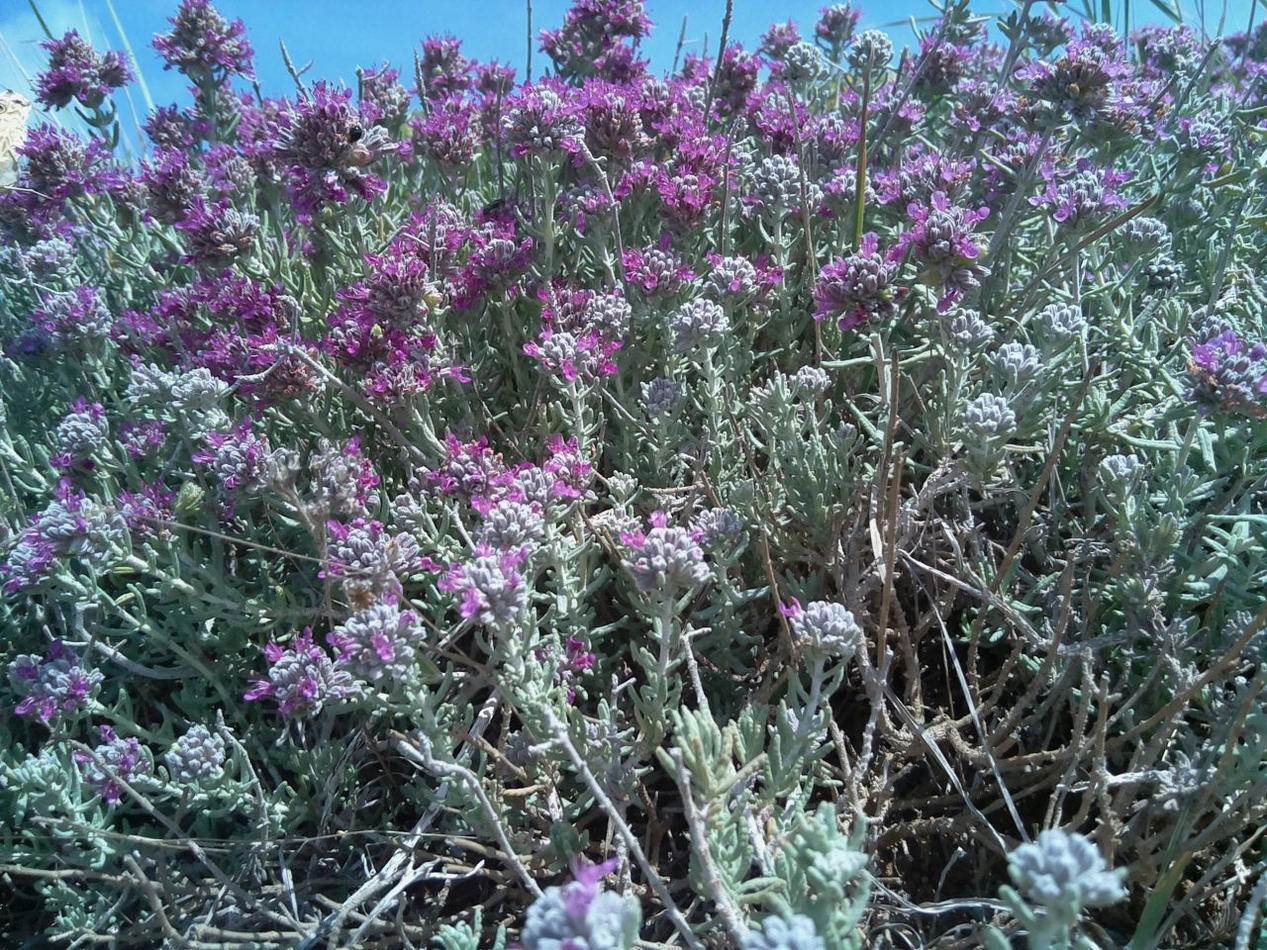Beetle: (344, 123, 372, 147)
Butterfly: (1, 82, 40, 177)
bee: (483, 196, 504, 216)
